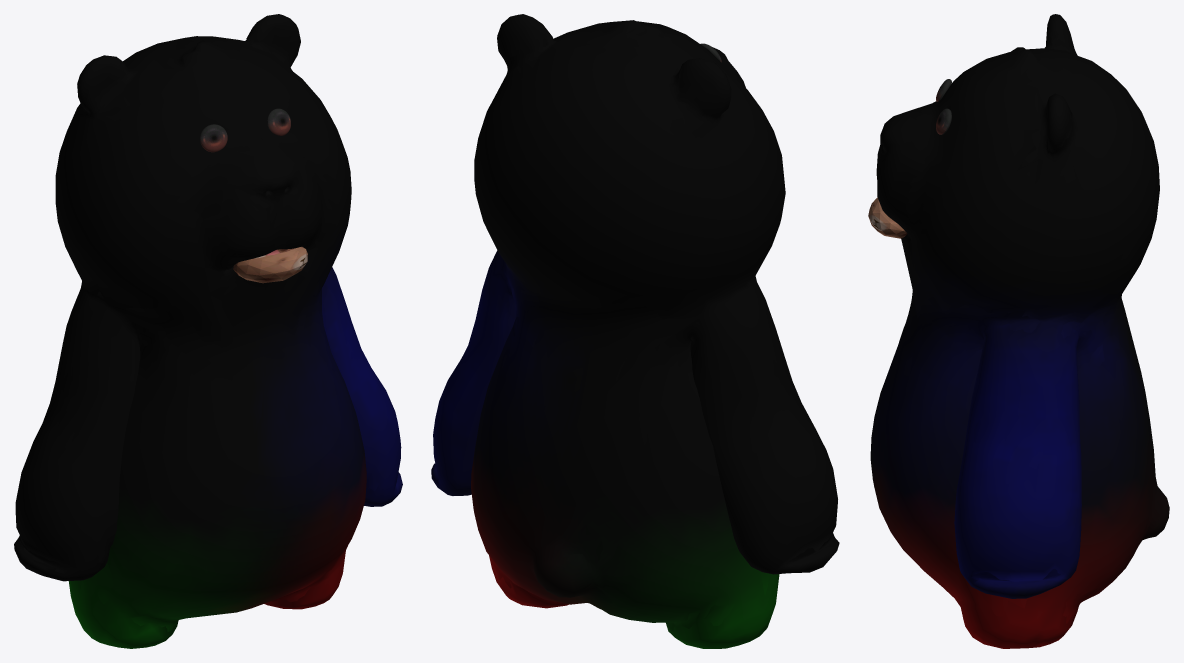
File: bear_shell_v4.glb
3 renders of one model, left to right at view 1: azimuth 30°, elevation 25°; view 2: azimuth 150°, elevation 25°; view 3: azimuth 270°, elevation 25°, orthographic. The views are drawn at different scales.
Parts seen in each view (by area): view 1: BoundedShellGroom, Body, BrownBear_Normal; view 2: BoundedShellGroom, Body; view 3: BoundedShellGroom, Body, BrownBear_Normal.
Part boxes in pixels (x1,y1,x2,y2): BoundedShellGroom: (14,14,402,648); Body: (17,34,378,631); BrownBear_Normal: (200,108,290,152); BoundedShellGroom: (431,14,839,648); Body: (492,25,834,631); BoundedShellGroom: (868,14,1169,648); Body: (879,36,1154,623); BrownBear_Normal: (936,79,951,134).
Bounding box in the file's own units: 1.69 × 2.45 × 1.23.
Materials: 4 (3 with a texture image).
